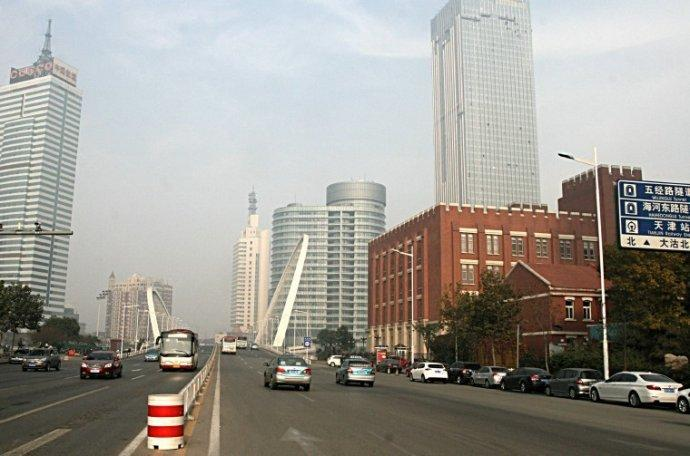bus: (155, 329, 198, 371), (219, 335, 237, 354), (235, 336, 247, 349)
car: (547, 366, 604, 400), (262, 355, 312, 391), (499, 366, 552, 394), (333, 357, 376, 385), (79, 350, 122, 378), (22, 347, 62, 372), (446, 359, 483, 385), (409, 360, 448, 384), (473, 366, 511, 389), (375, 357, 402, 375), (9, 348, 31, 364), (326, 354, 349, 368), (143, 347, 159, 362), (248, 343, 259, 351)
